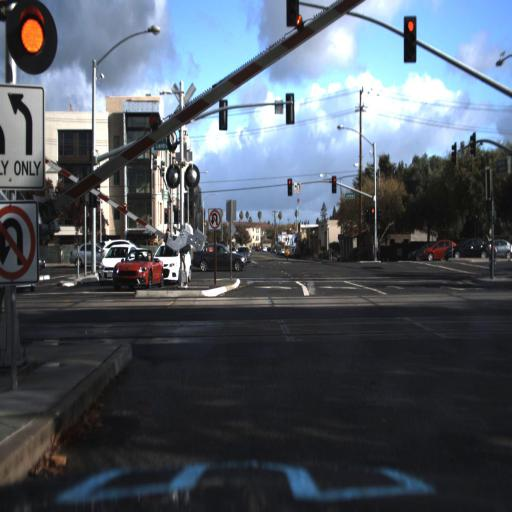car: (107, 248, 163, 288), (153, 240, 194, 285), (194, 244, 246, 275), (445, 235, 498, 264), (92, 243, 125, 284), (64, 243, 107, 274), (423, 237, 460, 265), (407, 240, 434, 262), (232, 240, 253, 266), (236, 244, 250, 263)
trafficLight: (13, 2, 53, 67), (286, 1, 300, 29)
trafficLight-Red: (403, 15, 418, 62), (330, 171, 339, 196), (370, 202, 377, 227), (286, 175, 293, 197), (332, 173, 337, 193)
